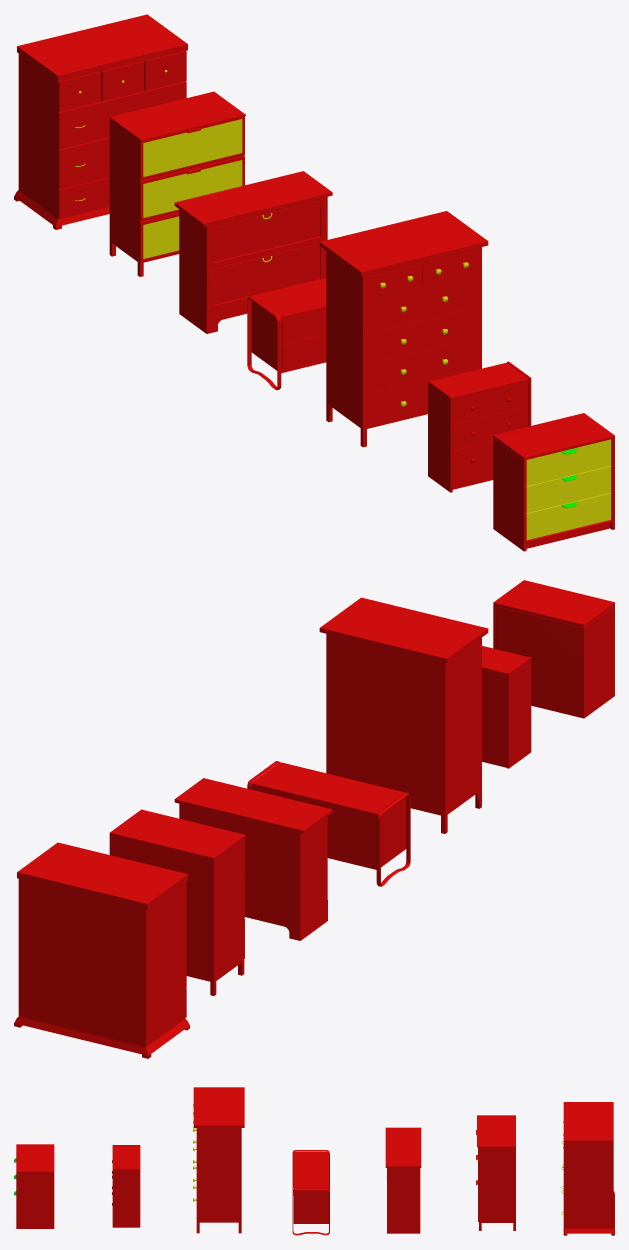
Rendered from thorkea_dressers_grp.fbx.
3 renders of one model, top to bottom at view 1: azimuth 30°, elevation 25°; view 2: azimuth 150°, elevation 25°; view 3: azimuth 270°, elevation 25°, orthographic. The views are drawn at different scales.
Parts seen in each view (by area): view 1: thorkea_dresser_hemnes, thorkea_dresser_birkeland, thorkea_dresser_aspelund, thorkea_dresser_aneboda, thorkea_dresser_askvoll, thorkea_dresser_rast, thorkea_dresser_anes; view 2: thorkea_dresser_birkeland, thorkea_dresser_hemnes, thorkea_dresser_aspelund, thorkea_dresser_aneboda, thorkea_dresser_askvoll, thorkea_dresser_anes, thorkea_dresser_rast; view 3: thorkea_dresser_birkeland, thorkea_dresser_hemnes, thorkea_dresser_aneboda, thorkea_dresser_aspelund, thorkea_dresser_askvoll, thorkea_dresser_anes, thorkea_dresser_rast.
Part boxes in pixels (left/top/right/bottom): thorkea_dresser_hemnes: left=319, top=211, right=488, bottom=447; thorkea_dresser_birkeland: left=14, top=14, right=187, bottom=229; thorkea_dresser_aspelund: left=174, top=171, right=332, bottom=333; thorkea_dresser_aneboda: left=109, top=91, right=245, bottom=276; thorkea_dresser_askvoll: left=493, top=413, right=614, bottom=551; thorkea_dresser_rast: left=428, top=361, right=531, bottom=492; thorkea_dresser_anes: left=247, top=278, right=326, bottom=390; thorkea_dresser_birkeland: left=14, top=842, right=189, bottom=1058; thorkea_dresser_hemnes: left=319, top=597, right=488, bottom=833; thorkea_dresser_aspelund: left=174, top=778, right=332, bottom=940; thorkea_dresser_aneboda: left=109, top=809, right=245, bottom=995; thorkea_dresser_askvoll: left=493, top=580, right=614, bottom=718; thorkea_dresser_anes: left=247, top=761, right=410, bottom=886; thorkea_dresser_rast: left=482, top=646, right=531, bottom=768; thorkea_dresser_birkeland: left=561, top=1102, right=614, bottom=1235; thorkea_dresser_hemnes: left=193, top=1087, right=244, bottom=1233; thorkea_dresser_aneboda: left=476, top=1115, right=515, bottom=1230; thorkea_dresser_aspelund: left=385, top=1127, right=421, bottom=1233; thorkea_dresser_askvoll: left=14, top=1144, right=54, bottom=1228; thorkea_dresser_anes: left=292, top=1150, right=329, bottom=1235; thorkea_dresser_rast: left=112, top=1145, right=140, bottom=1227.
Size of the model in its own units: 103 by 130 by 651.
